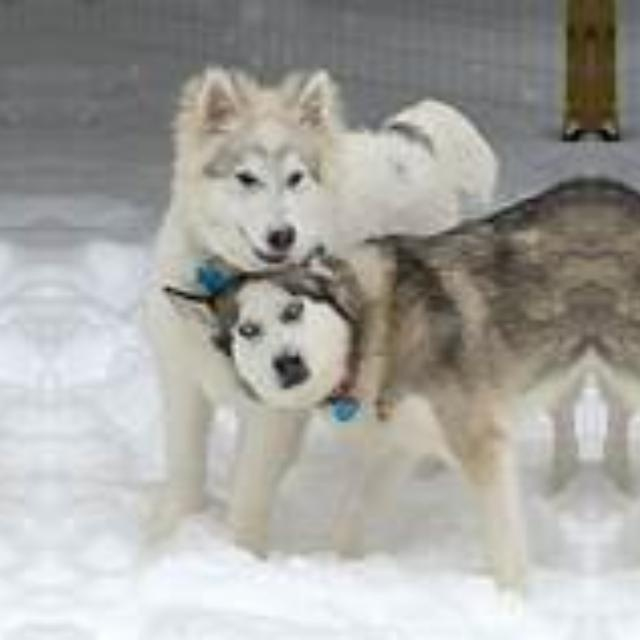dog: (205, 190, 592, 437), (114, 98, 502, 266), (592, 190, 640, 437)
